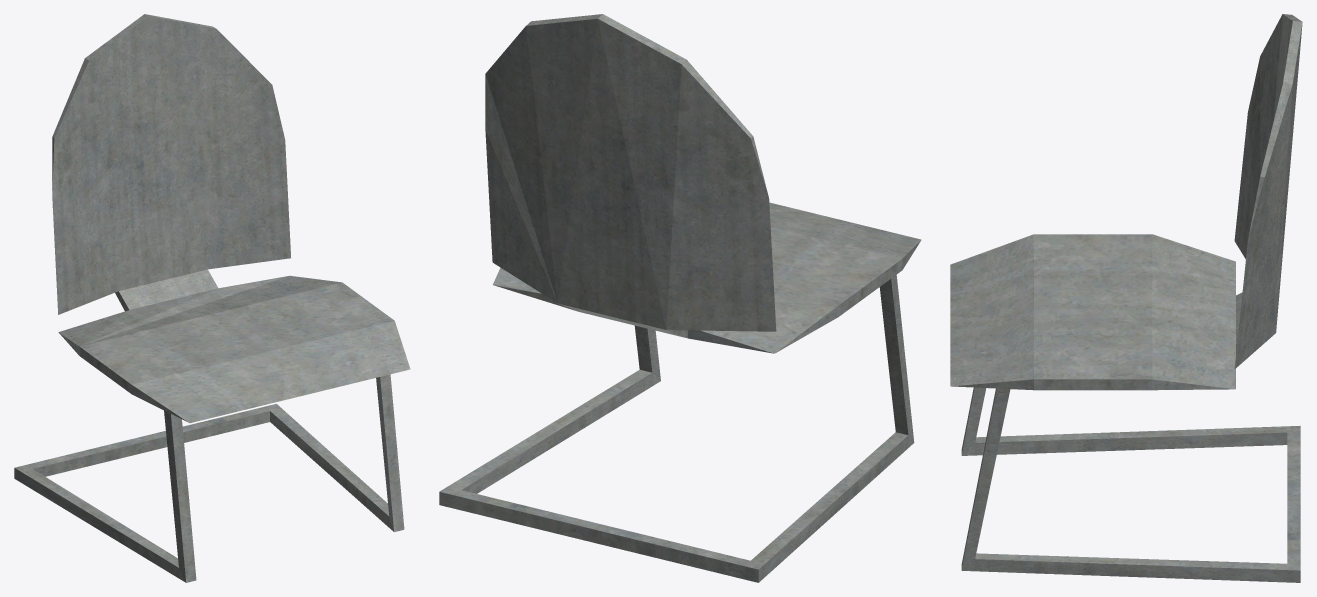
Rendered from frn_all_chair_cafe_s02_l1.fbx.
The picture shows the model from 3 angles, left to right: view 1: azimuth 30°, elevation 25°; view 2: azimuth 150°, elevation 25°; view 3: azimuth 270°, elevation 25°; orthographic projection. The views are drawn at different scales.
Parts seen in each view (by area): view 1: mesh_node; view 2: mesh_node; view 3: mesh_node.
Part boxes in pixels (x1=…): mesh_node: x1=14, y1=14, x2=410, y2=582; mesh_node: x1=439, y1=14, x2=921, y2=582; mesh_node: x1=950, y1=14, x2=1302, y2=582.
Bounding box in the file's own units: 0.6035 × 0.9492 × 0.6189.
